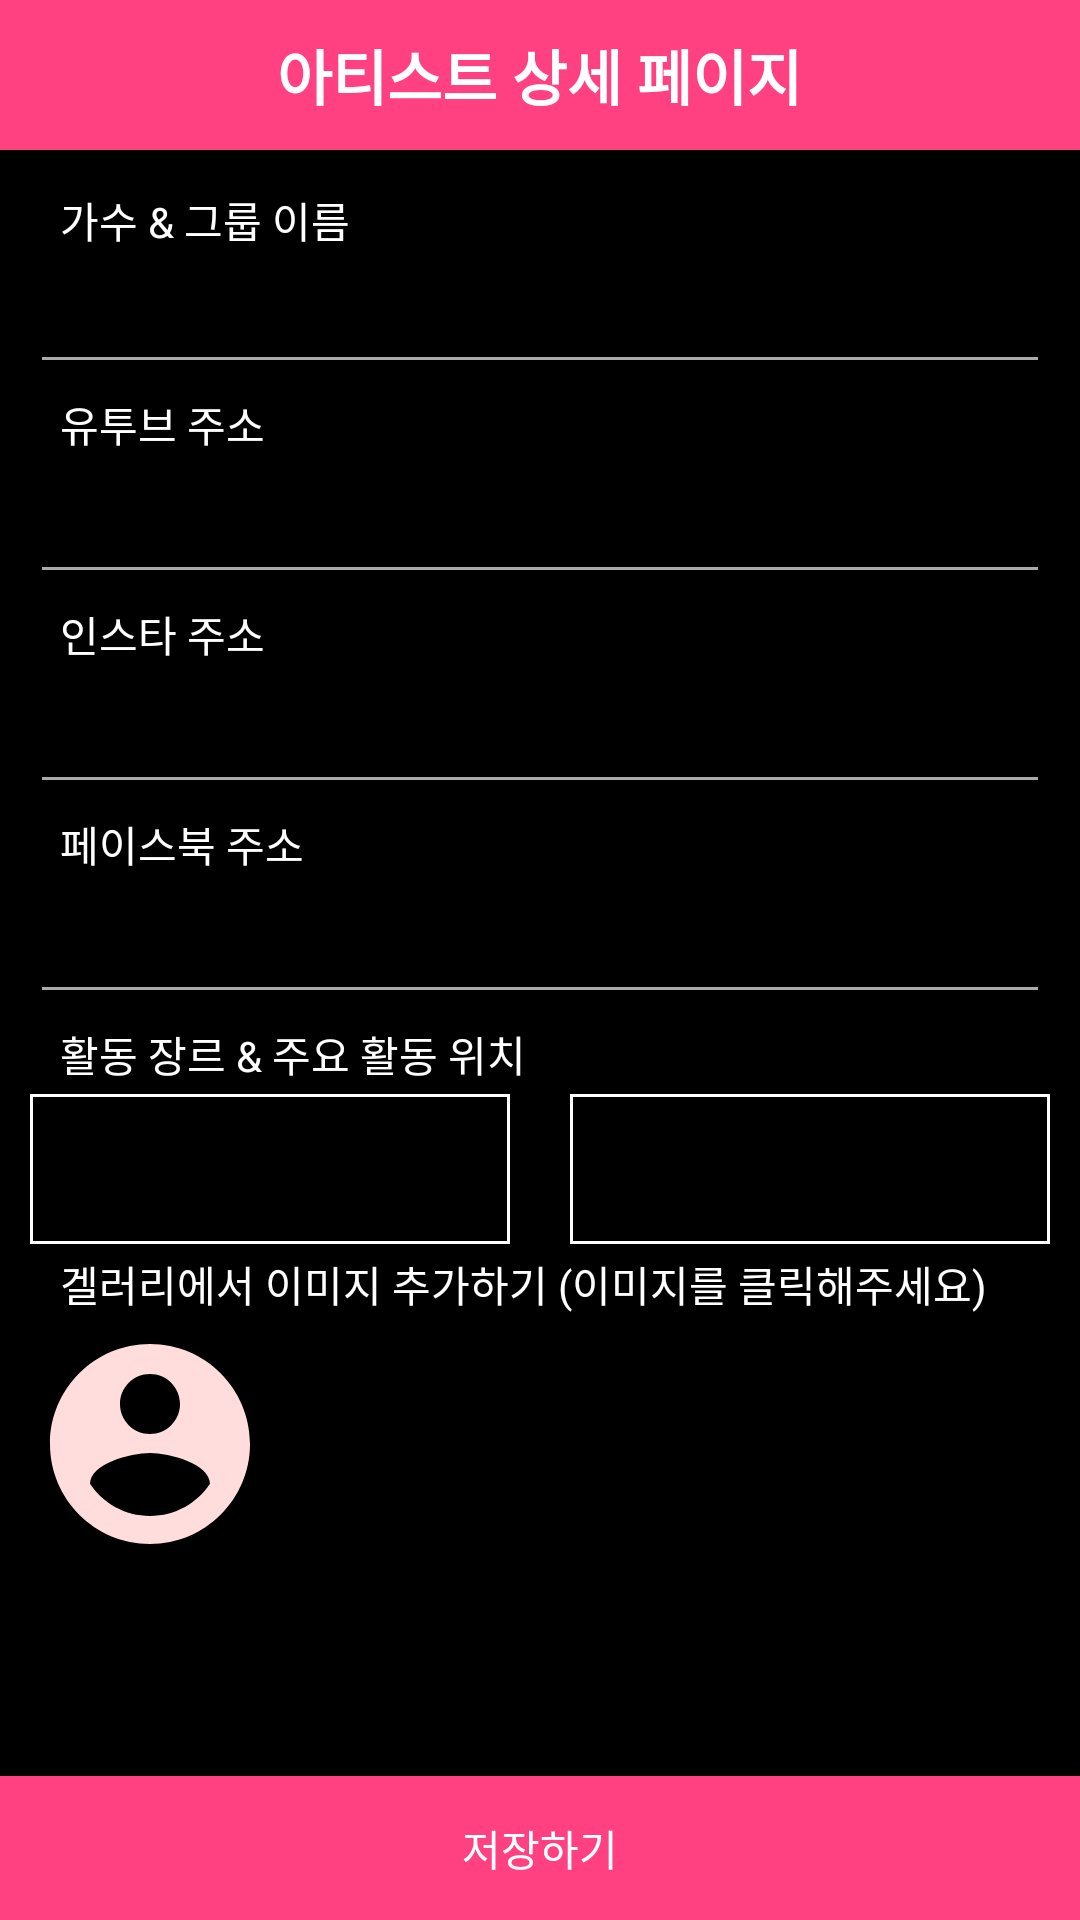

Named icons in this screenshot (1080x1920) and their centers, (x=x, y=y):
account circle: (x=149, y=1444)
